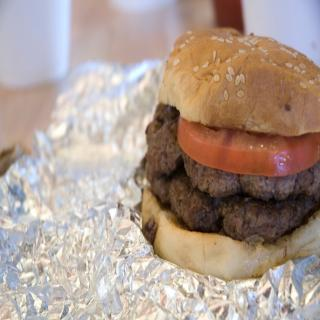Hamburger: (136, 26, 320, 279)
